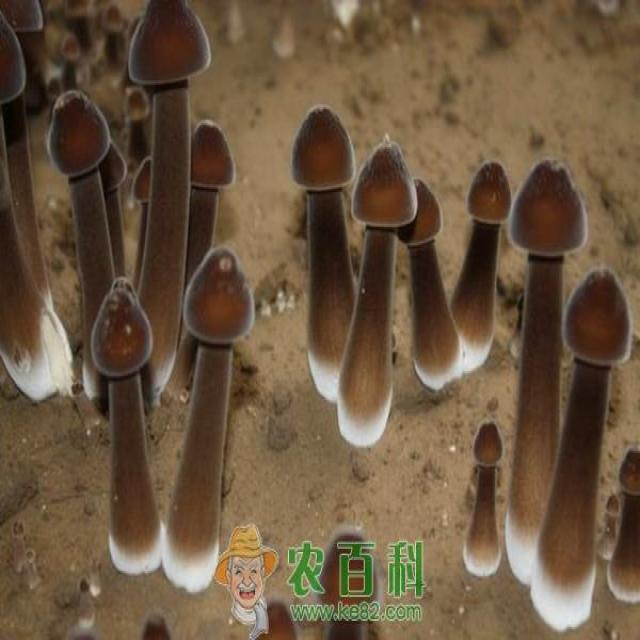Collybia albuminosa: (536, 267, 630, 634), (512, 159, 588, 578), (171, 245, 255, 608), (0, 0, 76, 394), (340, 140, 416, 447), (94, 296, 166, 572), (294, 104, 357, 402), (51, 89, 113, 320), (453, 162, 512, 381), (403, 181, 461, 390), (183, 121, 233, 249), (464, 412, 502, 575), (611, 451, 640, 601)
